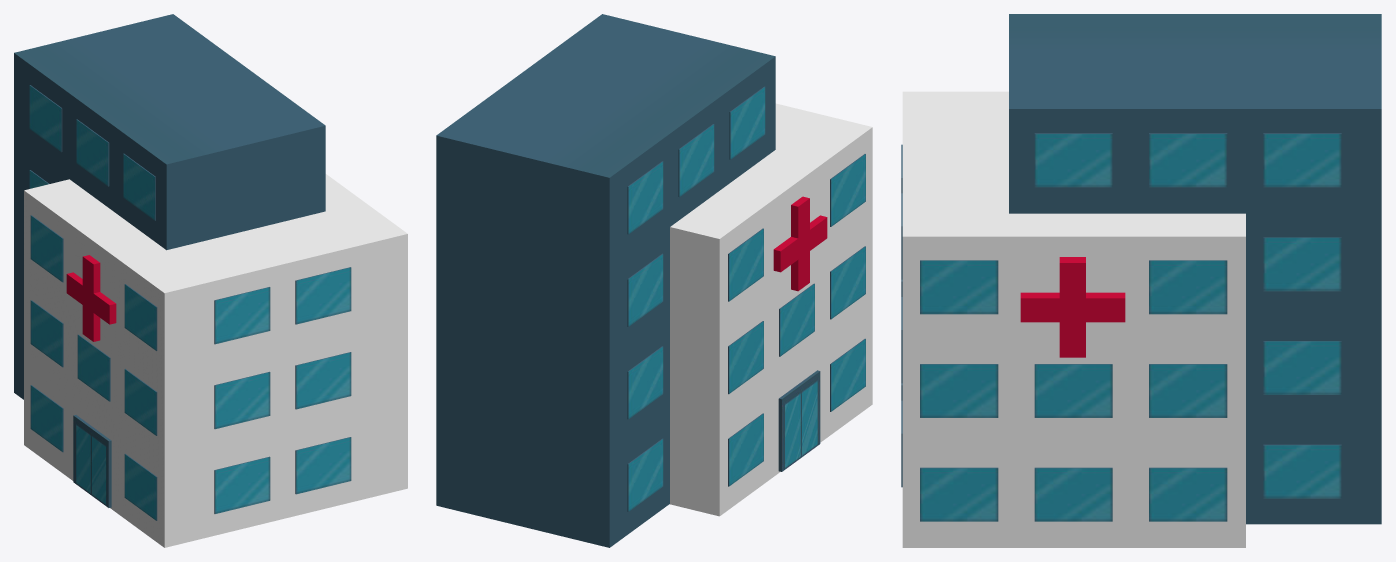
File: hospital.fbx
The picture shows the model from 3 angles, left to right: view 1: azimuth 30°, elevation 25°; view 2: azimuth 150°, elevation 25°; view 3: azimuth 270°, elevation 25°; orthographic projection. The views are drawn at different scales.
Parts seen in each view (by area): view 1: Cube.038; view 2: Cube.038; view 3: Cube.038.
Boxes of the visible parts, x1,y1,x2,y2 form: Cube.038: (14, 14, 407, 547); Cube.038: (436, 14, 872, 547); Cube.038: (901, 14, 1381, 547).
Bounding box in the file's own units: 640 × 802 × 839.
Materials: 1 (1 with a texture image).
